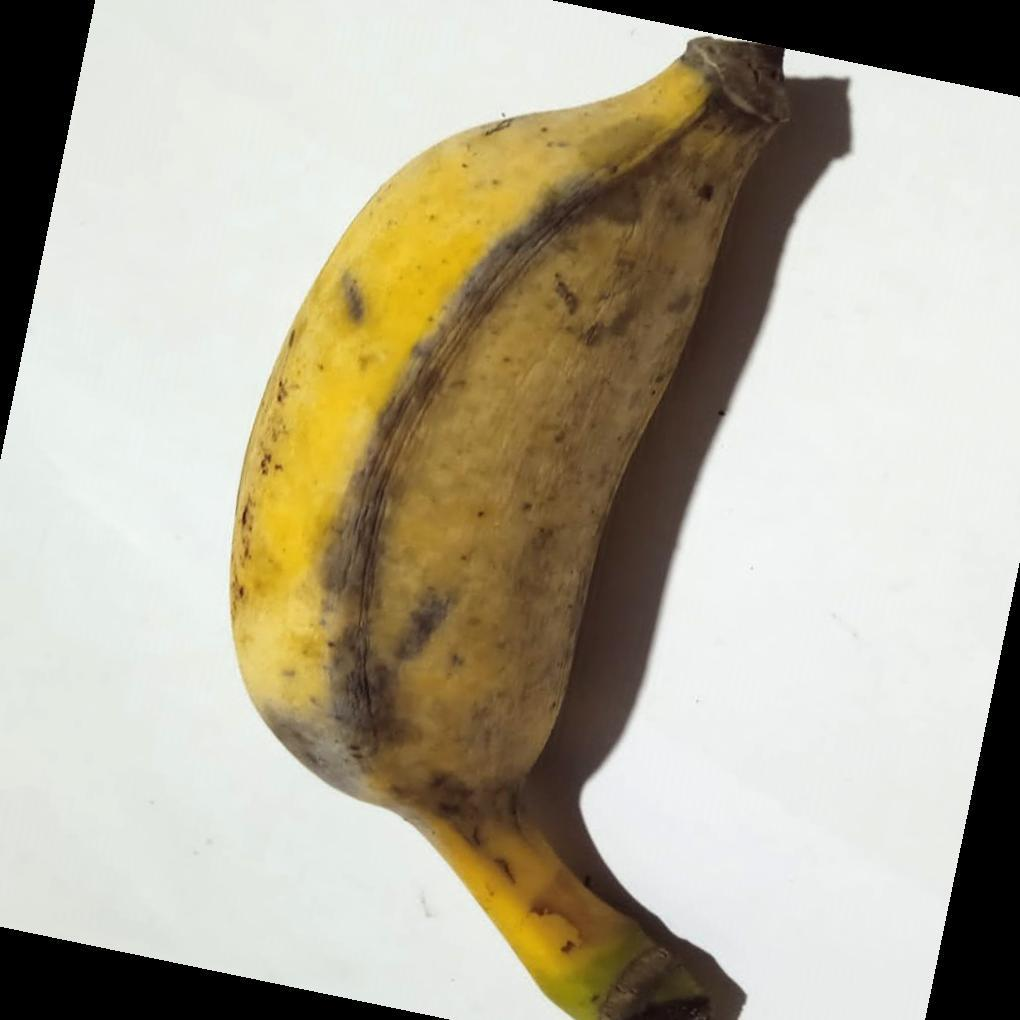Banana Ripe: (227, 38, 850, 1020)
